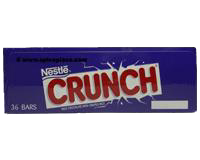grozi_50: (3, 46, 196, 114)
